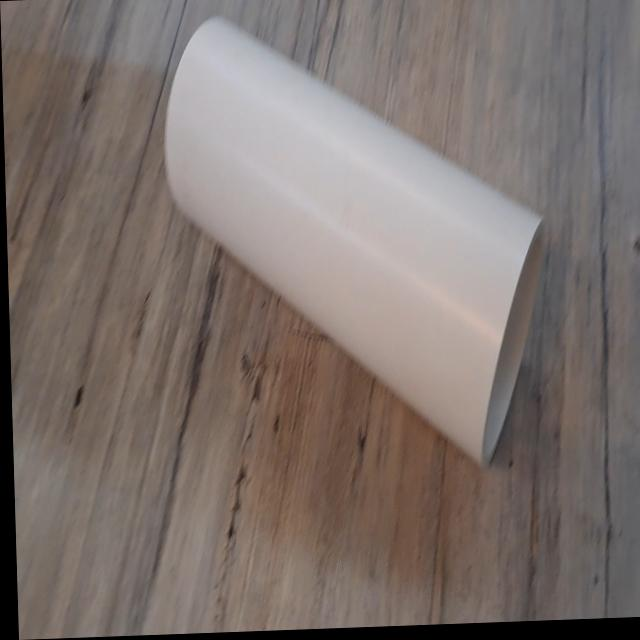CORAL: (151, 0, 558, 486)
